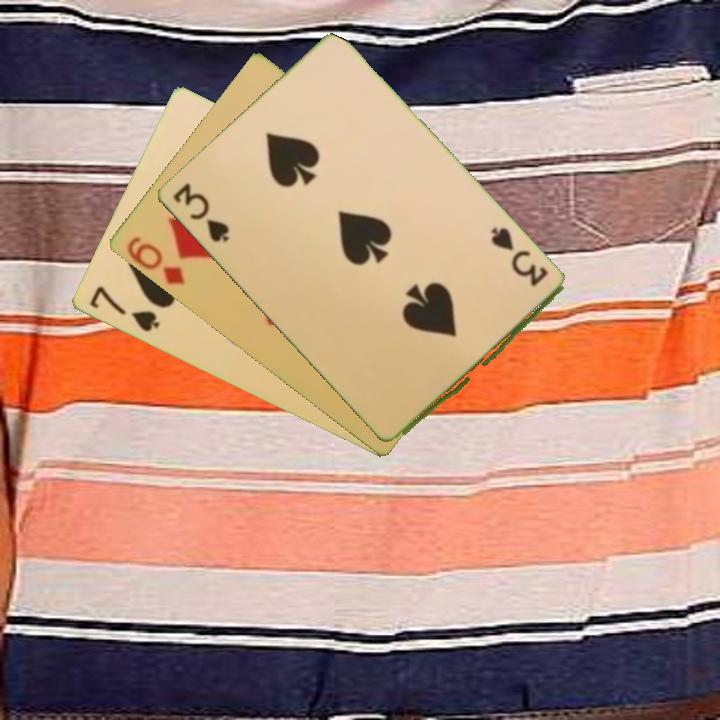3s: (487, 223, 551, 290), (169, 179, 232, 246)
6d: (122, 233, 188, 288)
7s: (85, 282, 162, 335)
